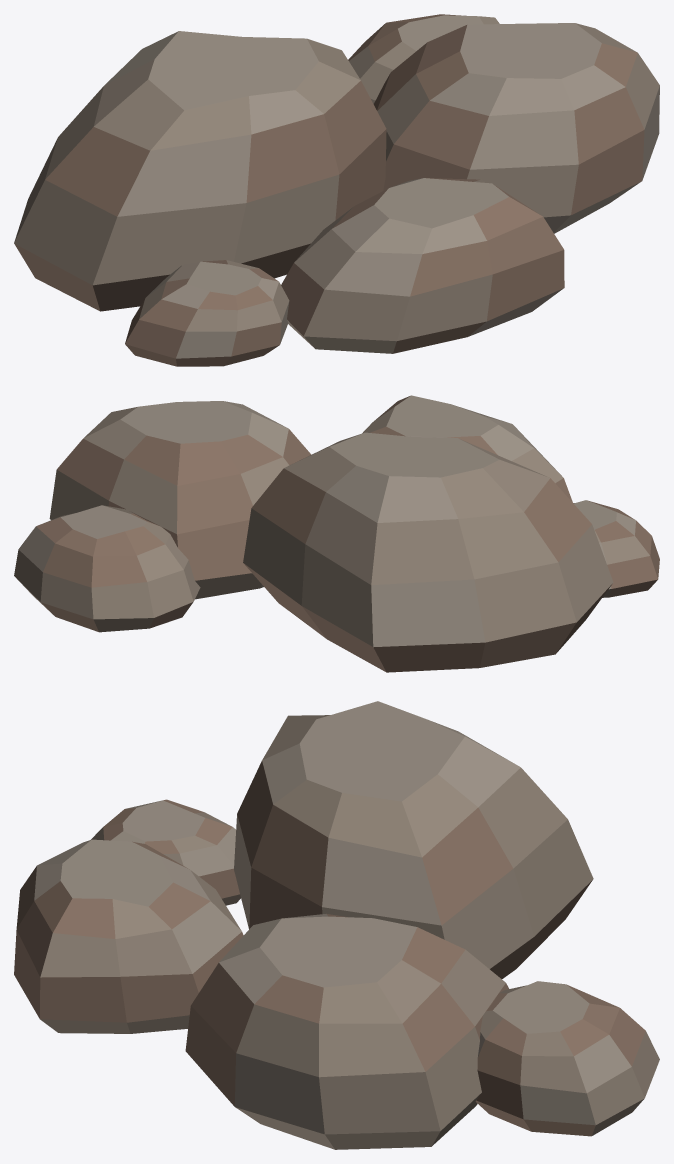
The model's file is rock-cluster.glb.
3 views of the same model, one above another, from view 1: azimuth 30°, elevation 25°; view 2: azimuth 150°, elevation 25°; view 3: azimuth 270°, elevation 25° (orthographic). The views are drawn at different scales.
Visible parts, largest first — view 1: Stone_01, Stone_02, Stone_03, Stone_05, Stone_04; view 2: Stone_01, Stone_02, Stone_04, Stone_03, Stone_05; view 3: Stone_01, Stone_02, Stone_03, Stone_04, Stone_05.
Boxes of the visible parts, x1,y1,x2,y2 form: Stone_01: (14, 31, 386, 311); Stone_02: (373, 23, 659, 233); Stone_03: (281, 178, 564, 353); Stone_05: (125, 260, 289, 366); Stone_04: (348, 14, 499, 103); Stone_01: (243, 432, 613, 672); Stone_02: (49, 401, 311, 599); Stone_04: (14, 505, 200, 632); Stone_03: (362, 395, 572, 502); Stone_05: (573, 500, 659, 597); Stone_01: (234, 701, 593, 978); Stone_02: (185, 913, 508, 1149); Stone_03: (14, 839, 243, 1033); Stone_04: (475, 981, 659, 1136); Stone_05: (91, 799, 240, 905).
Bounding box in the file's own units: 3 × 0.88 × 2.5.
